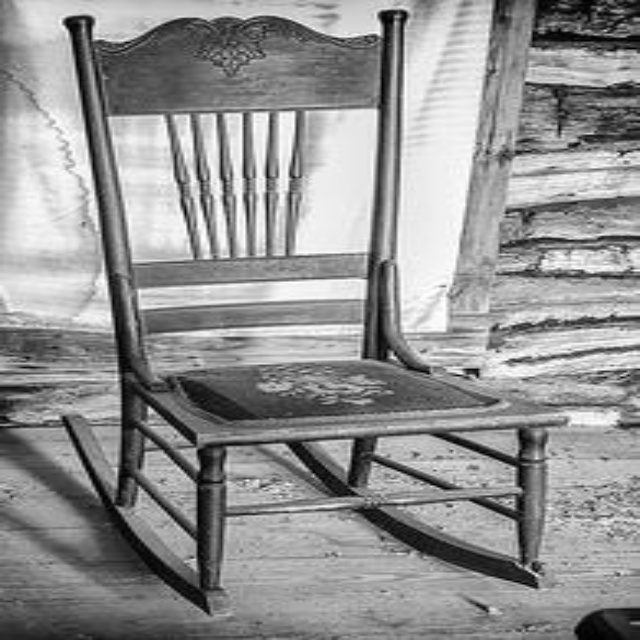obstacle: (66, 10, 561, 604)
